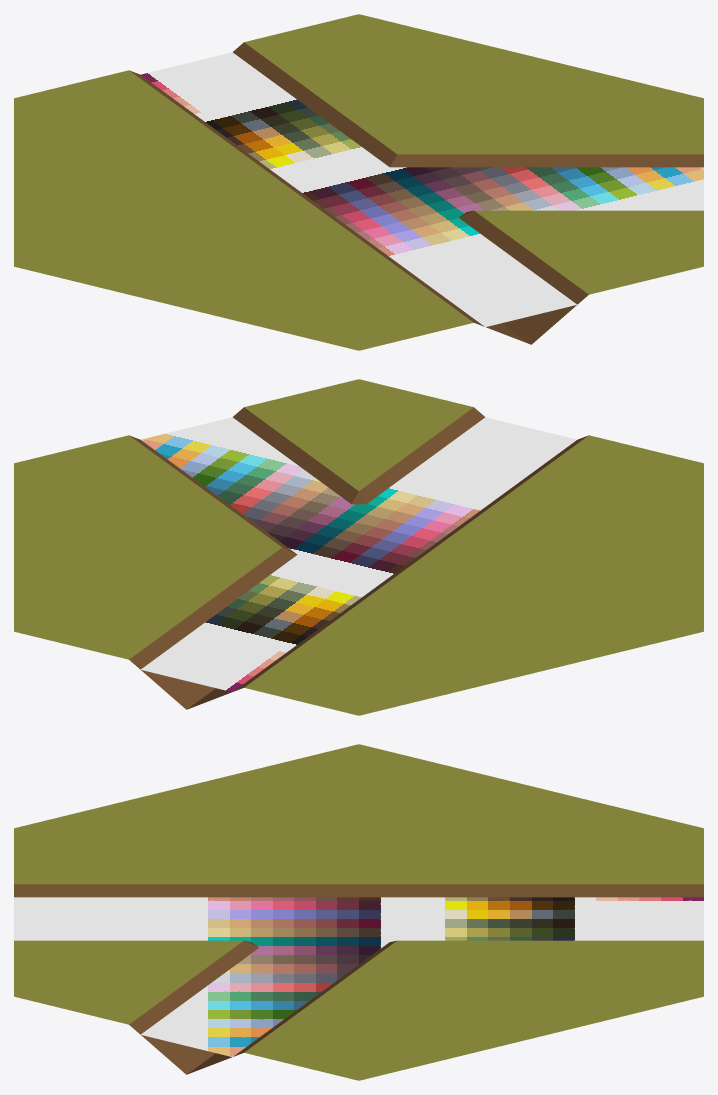
Rendered from river_hex_uv2_12.glb.
The picture shows the model from 3 angles, top to bottom: view 1: azimuth 30°, elevation 25°; view 2: azimuth 150°, elevation 25°; view 3: azimuth 270°, elevation 25°; orthographic projection.
Visible parts, largest first — view 1: tile, water; view 2: tile, water; view 3: tile, water.
Part boxes in pixels (x1,y1,x2,y2): tile: (14,14,703,350); water: (141,52,703,326); tile: (14,379,703,715); water: (141,417,576,691); tile: (14,744,703,1080); water: (14,897,703,1056).
Bounding box in the file's own units: 1 × 0.05 × 0.866.
Materials: 2 (2 with a texture image).
